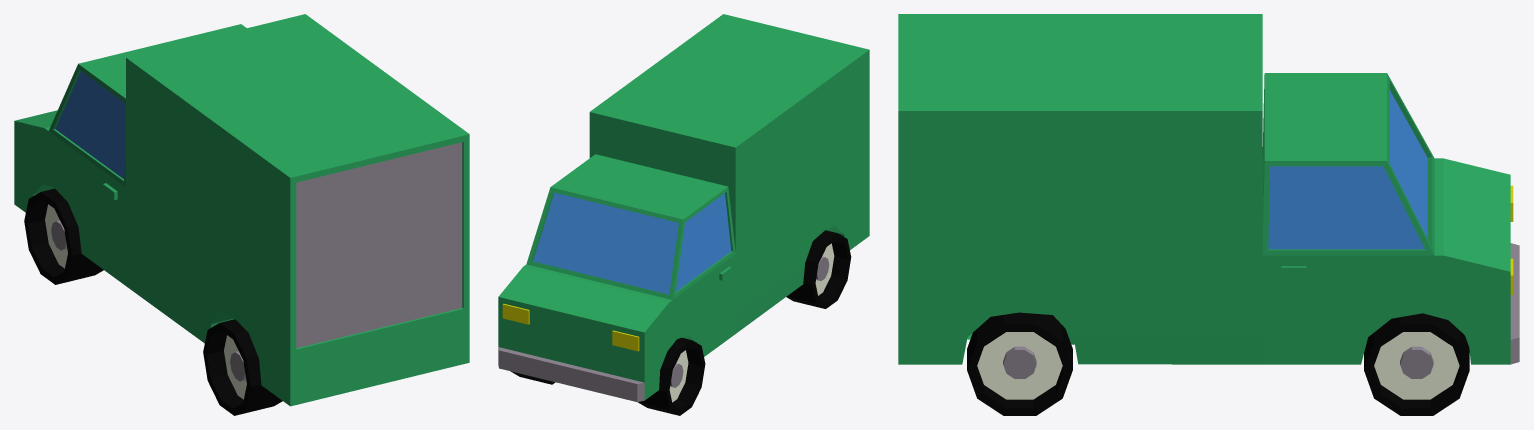
Rendered from Car_CD1.fbx.
3 renders of one model, left to right at view 1: azimuth 30°, elevation 25°; view 2: azimuth 150°, elevation 25°; view 3: azimuth 270°, elevation 25°, orthographic. The views are drawn at different scales.
Visible parts, largest first — view 1: Cube.001; view 2: Cube.001; view 3: Cube.001.
Part boxes in pixels (bbox=[...]): Cube.001: bbox=[14, 14, 469, 415]; Cube.001: bbox=[498, 14, 869, 415]; Cube.001: bbox=[898, 14, 1519, 415].
Size of the model in its own units: 475 by 626 by 1174.
